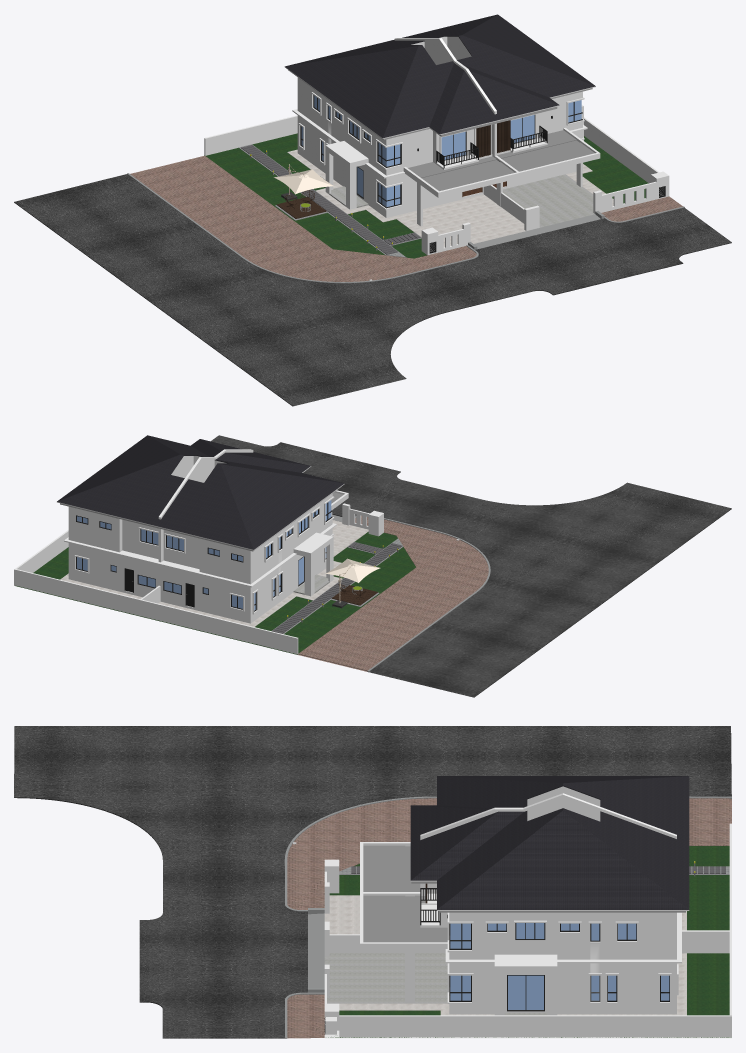
The model's file is 4669_3d_For_Website_2.glb.
3 views of the same model, one above another, from view 1: azimuth 30°, elevation 25°; view 2: azimuth 150°, elevation 25°; view 3: azimuth 270°, elevation 25° (orthographic). The views are drawn at different scales.
Parts seen in each view (by area): view 1: Component_72_1, Group117, Group2, Group109, Group22.001, Component_40_1, Group113, Component_113_2, Group108, Group3585, Component_43_2, Group110 (+7 smaller); view 2: Component_72_1, Group117, Group109, Group2, Group22.001, Group108, Group113, Component_43_2, Group111, Group110, Group3585, Group3886 (+3 smaller); view 3: Component_72_1, Group117, Group109, Group3585, Group2, Group22.001, Component_40_1, Component_113_2, Group113, Group110, Component_43_1, Component_68_1 (+11 smaller).
Boxes of the visible parts, left/top/right/bottom form: Component_72_1: left=14, top=174, right=731, bottom=406; Group117: left=285, top=14, right=595, bottom=138; Group2: left=130, top=156, right=476, bottom=281; Group109: left=297, top=77, right=582, bottom=217; Group22.001: left=204, top=133, right=648, bottom=258; Component_40_1: left=403, top=128, right=600, bottom=197; Group113: left=287, top=149, right=613, bottom=247; Component_113_2: left=503, top=174, right=594, bottom=227; Group108: left=204, top=115, right=297, bottom=155; Group3585: left=584, top=117, right=669, bottom=199; Component_43_2: left=325, top=141, right=368, bottom=209; Group110: left=394, top=38, right=496, bottom=157; Component_72_1: left=211, top=435, right=731, bottom=697; Group117: left=57, top=435, right=344, bottom=549; Group109: left=68, top=493, right=332, bottom=623; Group2: left=298, top=515, right=488, bottom=671; Group22.001: left=15, top=532, right=415, bottom=654; Group108: left=15, top=569, right=298, bottom=654; Group113: left=60, top=520, right=368, bottom=626; Component_43_2: left=293, top=532, right=333, bottom=596; Group111: left=64, top=523, right=336, bottom=587; Group110: left=158, top=449, right=253, bottom=562; Group3585: left=14, top=530, right=68, bottom=585; Group3886: left=325, top=558, right=380, bottom=582; Component_72_1: left=14, top=726, right=731, bottom=1038; Group117: left=410, top=776, right=689, bottom=909; Group109: left=449, top=912, right=676, bottom=1014; Group3585: left=324, top=1003, right=731, bottom=1038; Group2: left=287, top=798, right=731, bottom=909; Group22.001: left=328, top=846, right=731, bottom=1037; Component_40_1: left=360, top=842, right=447, bottom=950; Component_113_2: left=324, top=953, right=447, bottom=1003; Group113: left=324, top=895, right=686, bottom=1015; Group110: left=420, top=793, right=676, bottom=895; Component_43_1: left=494, top=954, right=557, bottom=1015; Component_68_1: left=287, top=994, right=324, bottom=1038.
Bounding box in the file's own units: 44.71 × 14.11 × 43.47.
41 materials, 16 textured.
